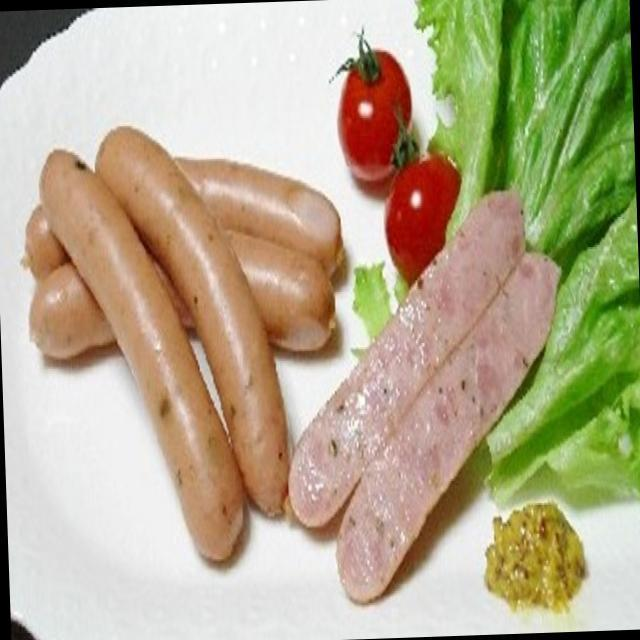Sausage: (0, 94, 357, 572)
Tomato: (336, 31, 467, 288)
